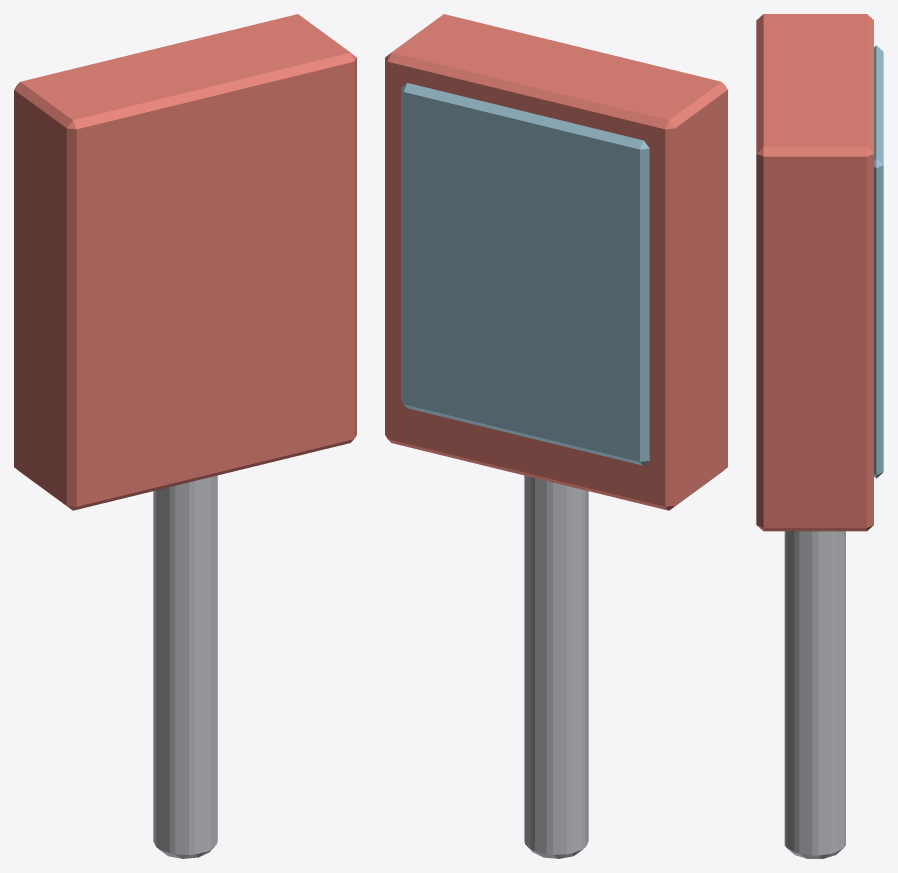
File: 道具_消防器材箱_01.fbx
3 views of the same model, side by side, from view 1: azimuth 30°, elevation 25°; view 2: azimuth 150°, elevation 25°; view 3: azimuth 270°, elevation 25° (orthographic).
Visible parts, largest first — view 1: 箱体.005, 立杆.003; view 2: 玻璃门, 箱体.005, 立杆.003; view 3: 箱体.005, 立杆.003, 玻璃门.
Part boxes in pixels (box(x1,y1,x2,y2)): 箱体.005: box(14, 14, 356, 510); 立杆.003: box(153, 475, 217, 858); 玻璃门: box(401, 83, 649, 465); 箱体.005: box(385, 14, 727, 510); 立杆.003: box(524, 475, 588, 858); 箱体.005: box(756, 14, 873, 531); 立杆.003: box(784, 531, 845, 858); 玻璃门: box(874, 45, 883, 478).
Bounding box in the file's own units: 70 × 180 × 27.
